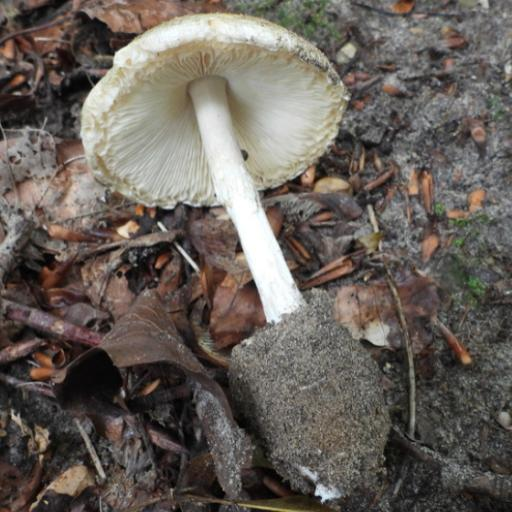mushroom: (43, 0, 431, 331), (177, 71, 307, 328)
